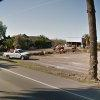Car: (3, 44, 32, 63)
